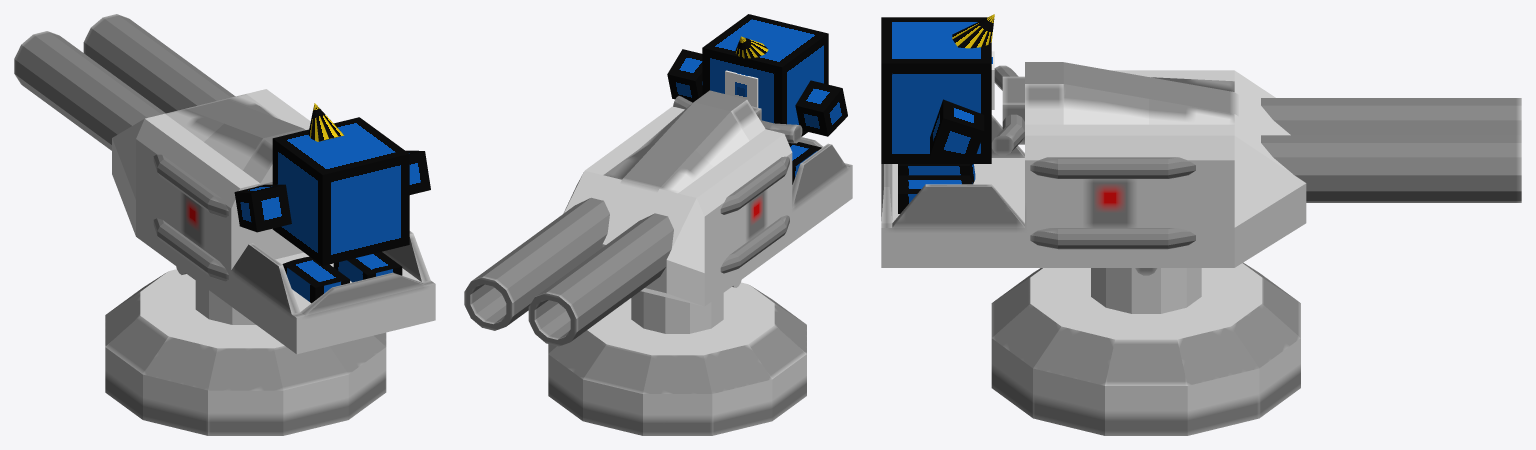
The model's file is akudo-fu+houdai-nirenhou2.fbx.
3 views of the same model, side by side, from view 1: azimuth 30°, elevation 25°; view 2: azimuth 150°, elevation 25°; view 3: azimuth 270°, elevation 25° (orthographic). The views are drawn at different scales.
Visible parts, largest first — view 1: cuboid_6, cylinder, cuboid, cylinder_5, cylinder_2, cuboid_4, cuboid_2, cylinder_6, cylinder_7, cuboid_1, cylinder_1, cuboid_3 (+1 smaller); view 2: cuboid_6, cylinder, cylinder_5, cylinder_2, cuboid, cylinder_1, cuboid_4, cuboid_3, cylinder_6, cylinder_7, cuboid_5, cylinder_4 (+2 smaller); view 3: cuboid_6, cylinder, cylinder_2, cuboid, cylinder_5, cylinder_1, cylinder_8, cylinder_9, cuboid_3, cylinder_4, cuboid_1, cuboid_7 (+2 smaller).
Part boxes in pixels (box(x1,y1,x2,y2)): cuboid_6: box(112, 89, 435, 354); cylinder: box(105, 269, 386, 435); cuboid: box(272, 117, 409, 265); cylinder_5: box(14, 31, 165, 150); cylinder_2: box(83, 14, 235, 113); cuboid_4: box(234, 184, 291, 232); cuboid_2: box(282, 256, 349, 303); cylinder_6: box(153, 154, 228, 217); cylinder_7: box(153, 218, 228, 281); cuboid_1: box(333, 251, 402, 282); cylinder_1: box(195, 281, 255, 324); cuboid_3: box(405, 150, 430, 194); cuboid_6: box(563, 90, 852, 306); cylinder: box(548, 282, 806, 435); cylinder_5: box(528, 213, 673, 346); cylinder_2: box(464, 197, 609, 330); cuboid: box(702, 14, 828, 145); cylinder_1: box(631, 291, 723, 333); cuboid_4: box(795, 80, 847, 136); cuboid_3: box(667, 49, 702, 102); cylinder_6: box(720, 156, 789, 214); cylinder_7: box(720, 215, 789, 273); cuboid_5: box(725, 70, 758, 107); cylinder_4: box(673, 96, 802, 143); cuboid_6: box(881, 62, 1306, 267); cylinder: box(991, 262, 1300, 435); cylinder_2: box(1261, 135, 1521, 202); cuboid: box(881, 17, 991, 163); cylinder_5: box(1261, 98, 1521, 135); cylinder_1: box(1091, 268, 1201, 313); cylinder_8: box(1030, 157, 1195, 178); cylinder_9: box(1030, 228, 1195, 249); cuboid_3: box(930, 99, 984, 164); cylinder_4: box(991, 65, 1024, 155); cuboid_1: box(898, 175, 972, 213); cuboid_7: box(1002, 76, 1024, 144).
Bounding box in the file's own units: 175 × 223 × 362.
